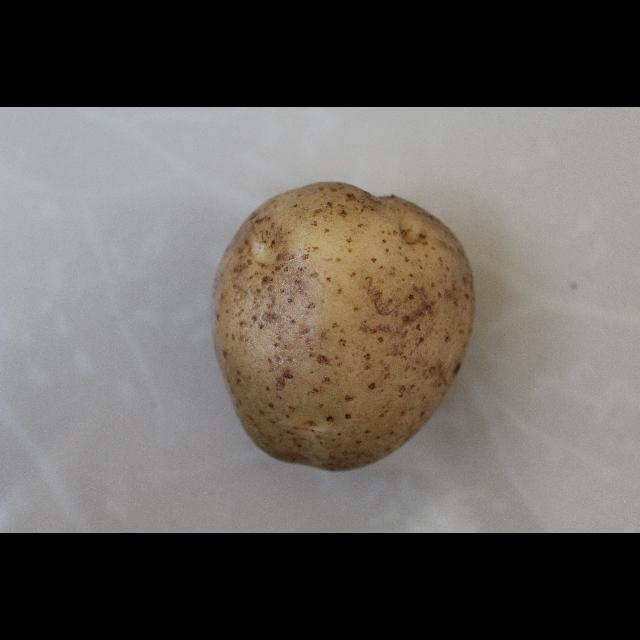Diseased-fungal potato: (206, 177, 484, 478)
